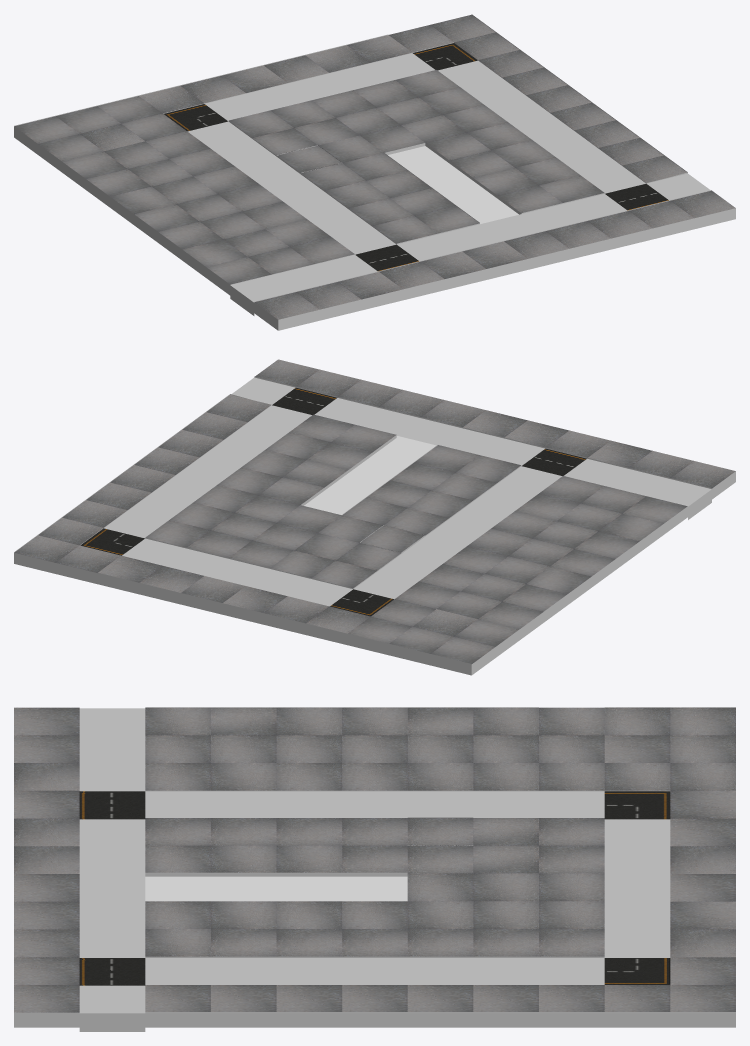
The model's file is area1base_ver7.fbx.
3 renders of one model, top to bottom at view 1: azimuth 30°, elevation 25°; view 2: azimuth 150°, elevation 25°; view 3: azimuth 270°, elevation 25°, orthographic. The views are drawn at different scales.
Visible parts, largest first — view 1: Cube; view 2: Cube; view 3: Cube.
Part boxes in pixels (x1=…): Cube: x1=14, y1=14, x2=735, y2=330; Cube: x1=14, y1=359, x2=735, y2=675; Cube: x1=14, y1=707, x2=735, y2=1031.
Bounding box in the file's own units: 20000 × 695 × 20001.
